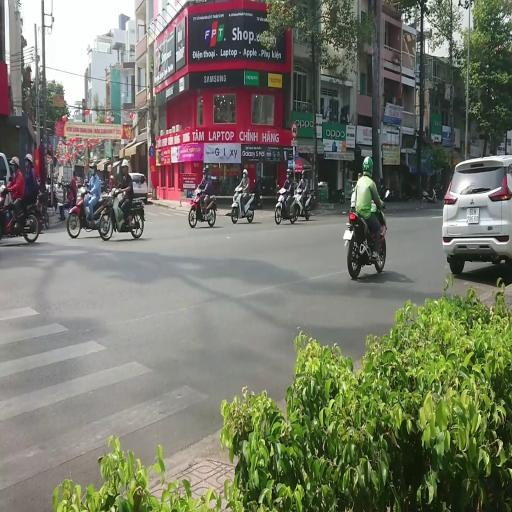bikes: (343, 187, 390, 279), (98, 184, 145, 240), (66, 182, 112, 239), (0, 180, 40, 242), (188, 187, 217, 228), (230, 186, 256, 223), (274, 184, 296, 224), (290, 186, 315, 221), (55, 176, 74, 220), (36, 189, 49, 230), (248, 179, 263, 208), (422, 187, 437, 203)
helmet: (362, 156, 373, 177), (9, 156, 19, 167), (24, 153, 33, 164), (121, 159, 129, 168), (202, 166, 208, 178), (80, 187, 86, 196), (46, 155, 52, 164), (242, 168, 248, 176), (286, 168, 292, 176), (89, 162, 97, 168), (301, 170, 306, 178), (357, 172, 362, 179), (92, 166, 96, 174), (72, 171, 76, 176), (110, 174, 113, 179)
